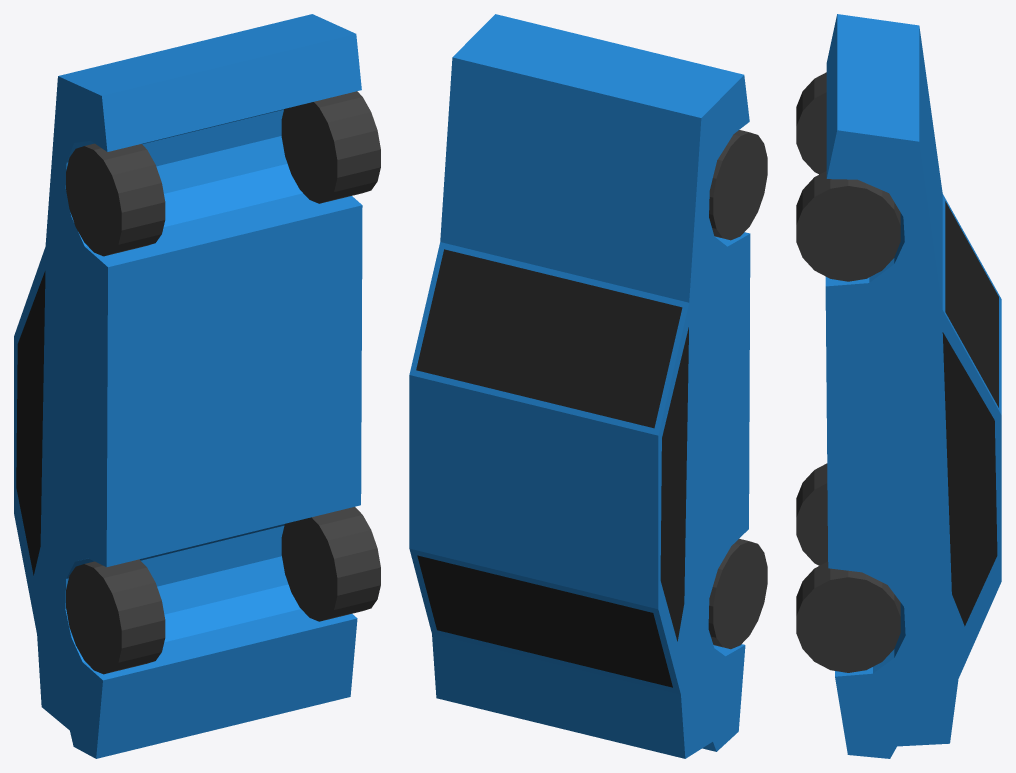
Rendered from car_blue.dae.
3 views of the same model, side by side, from view 1: azimuth 30°, elevation 25°; view 2: azimuth 150°, elevation 25°; view 3: azimuth 270°, elevation 25° (orthographic). The views are drawn at different scales.
Parts seen in each view (by area): view 1: body.006, wheel_rr, wheel_fr, wheel_rl, wheel_fl; view 2: body.006, wheel_rr, wheel_fr; view 3: body.006, wheel_rl, wheel_fl, wheel_rr, wheel_fr.
Part boxes in pixels (x1=…): body.006: x1=14, y1=14, x2=362, y2=758; wheel_rr: x1=66, y1=559, x2=165, y2=674; wheel_fr: x1=66, y1=143, x2=165, y2=256; wheel_rl: x1=281, y1=507, x2=380, y2=621; wheel_fl: x1=281, y1=91, x2=380, y2=203; body.006: x1=409, y1=14, x2=750, y2=758; wheel_rr: x1=708, y1=538, x2=767, y2=649; wheel_fr: x1=709, y1=130, x2=767, y2=240; body.006: x1=825, y1=14, x2=1001, y2=758; wheel_rl: x1=796, y1=561, x2=900, y2=672; wheel_fl: x1=796, y1=171, x2=900, y2=281; wheel_rr: x1=796, y1=463, x2=827, y2=565; wheel_fr: x1=796, y1=72, x2=826, y2=174.
Bounding box in the file's own units: 2.04 × 1.49 × 5.04.
